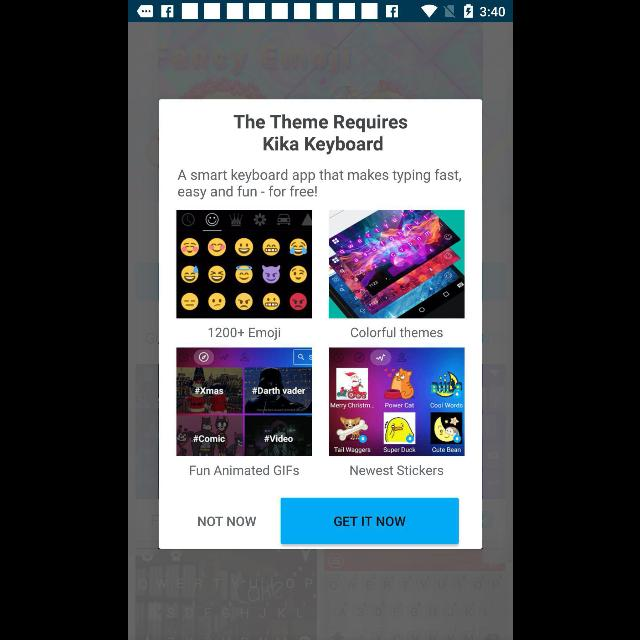image: (328, 348, 464, 457), (176, 348, 312, 457), (328, 210, 464, 318), (176, 210, 312, 318)
panel: (158, 99, 482, 549)
text: (177, 170, 461, 200), (232, 114, 408, 156), (190, 464, 298, 476), (350, 464, 442, 476), (350, 327, 442, 338), (208, 328, 280, 340), (197, 516, 255, 526)
textbutton: (280, 498, 458, 544)
uppertaskbar: (128, 1, 512, 23)
